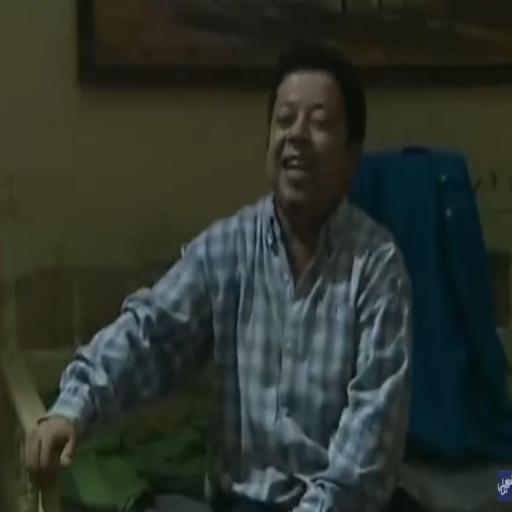fouchika: (267, 46, 366, 214)
